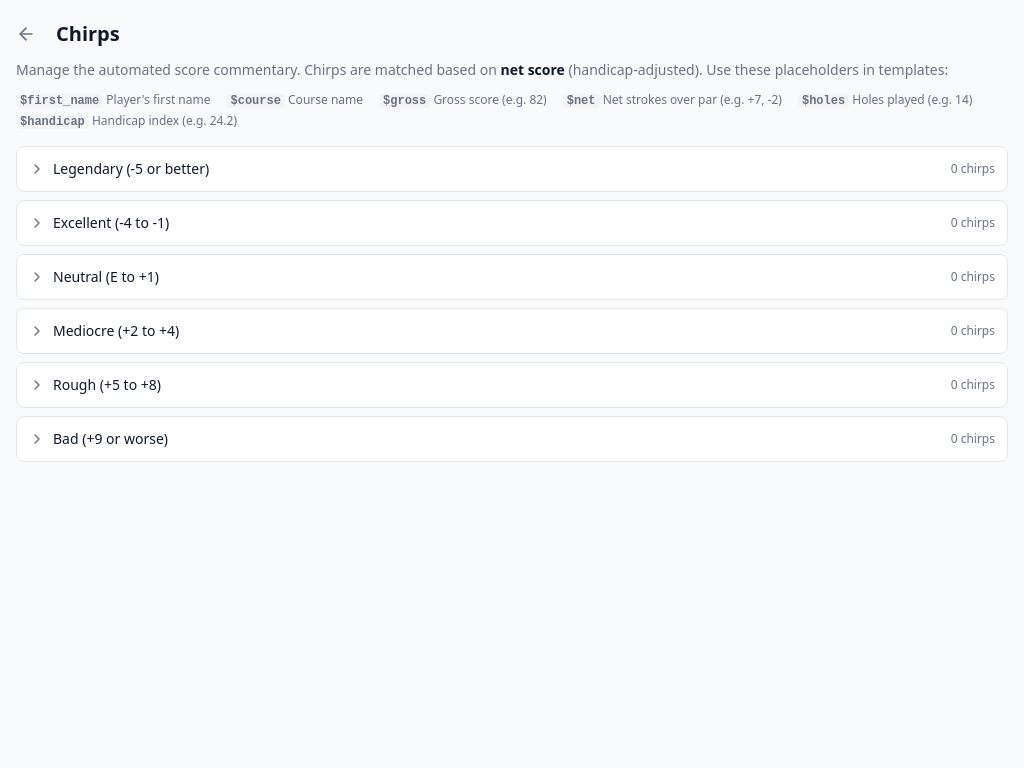
Test: ChirpsPage — Flag OFF (legacy mode) › shows empty state for a bucket with no chirps
The width and height of the screenshot is (1024, 768).
Click the text "Excellent (-4 to -1)".
click(111, 223)  # box [53,213,169,233]
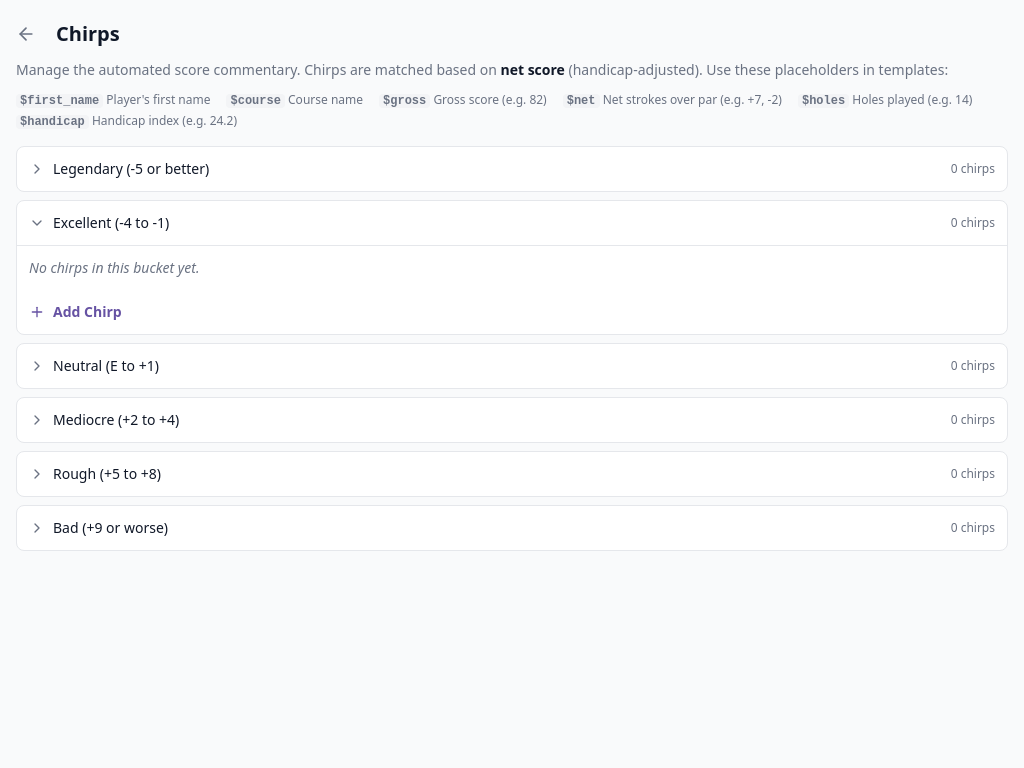
Expected: the text "No chirps in this bucket yet." is shown, [29,258,200,277]
